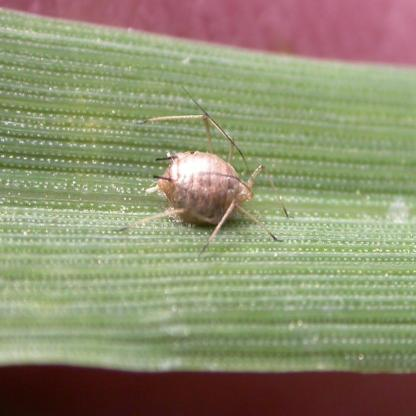aphid: (140, 96, 273, 246)
